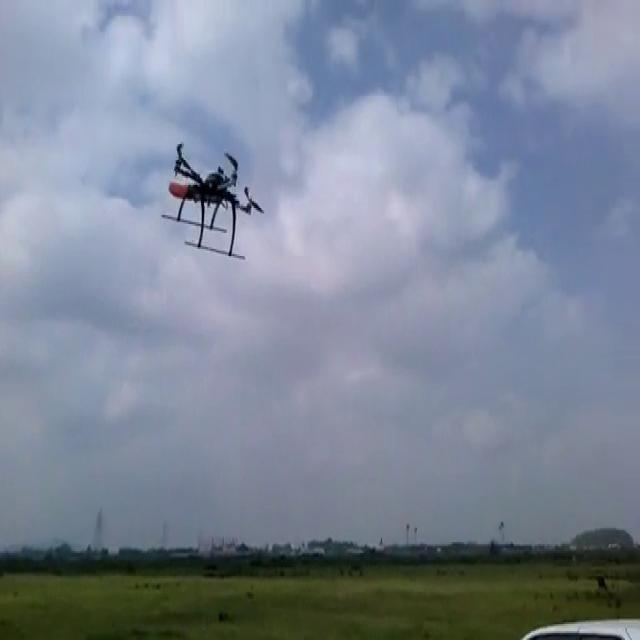drone: (159, 135, 264, 263)
